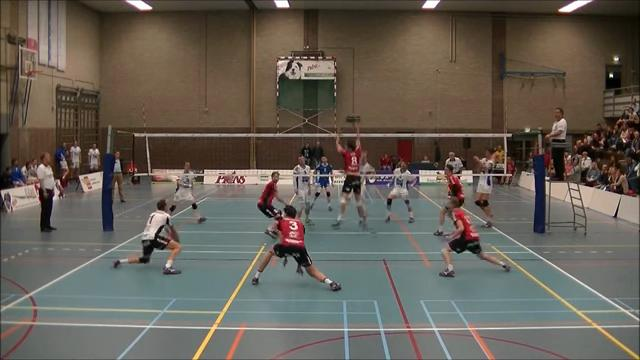difesa: (108, 196, 184, 274)
muro: (331, 120, 374, 232)
